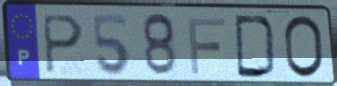5: (91, 12, 133, 79)
8: (140, 12, 179, 80)
D: (232, 13, 279, 80)
F: (186, 16, 228, 77)
O: (282, 14, 326, 81)
P: (40, 13, 86, 77)
